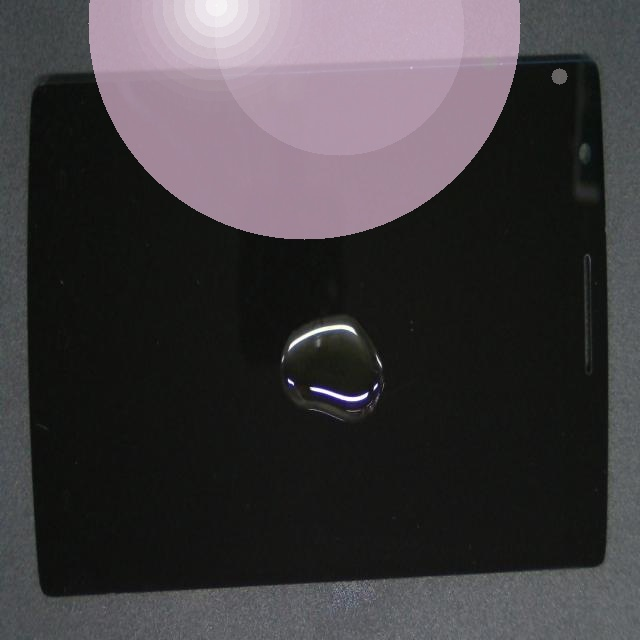oil: (209, 146, 497, 478)
